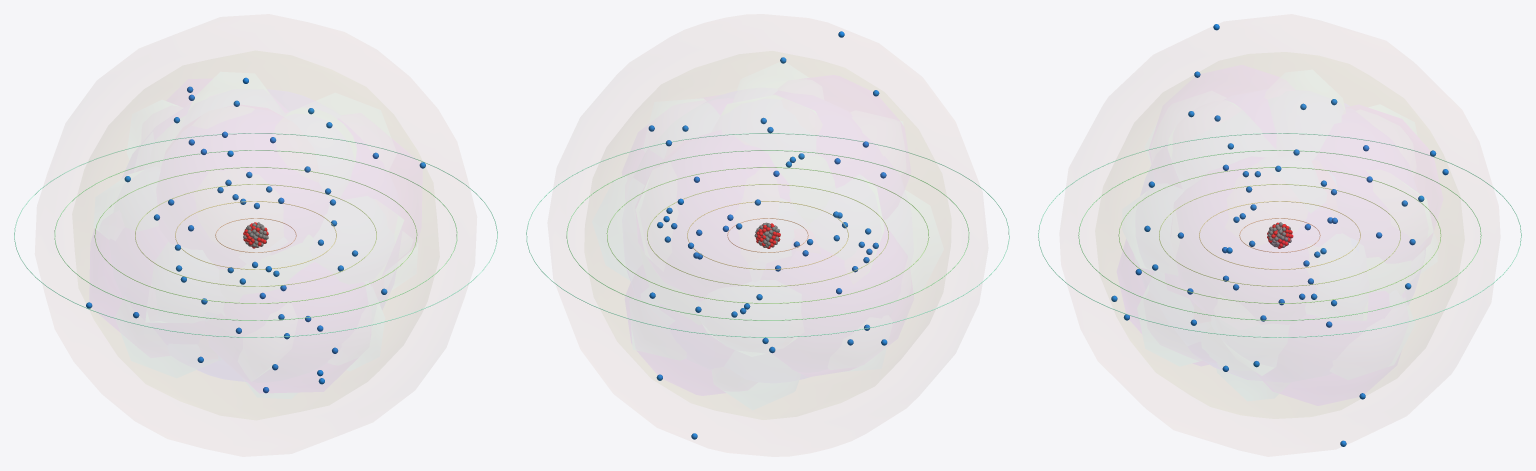
3 renders of one model, left to right at view 1: azimuth 30°, elevation 25°; view 2: azimuth 150°, elevation 25°; view 3: azimuth 270°, elevation 25°, orthographic.
Visible parts, largest first — view 1: Nivel_n6, Nivel_n5, Nivel_n4, Nivel_n3; view 2: Nivel_n6, Nivel_n5, Nivel_n4, Nivel_n3; view 3: Nivel_n6, Nivel_n5, Nivel_n4, Nivel_n3.
Boxes of the visible parts, x1,y1,x2,y2 form: Nivel_n6: (14, 133, 497, 337); Nivel_n5: (54, 150, 457, 320); Nivel_n4: (94, 167, 417, 303); Nivel_n3: (135, 184, 376, 286); Nivel_n6: (526, 133, 1009, 337); Nivel_n5: (566, 150, 969, 320); Nivel_n4: (606, 167, 929, 303); Nivel_n3: (647, 184, 888, 286); Nivel_n6: (1038, 133, 1521, 337); Nivel_n5: (1078, 150, 1481, 320); Nivel_n4: (1118, 167, 1441, 303); Nivel_n3: (1159, 184, 1400, 286).
Size of the model in its own units: 1.8 by 1.64 by 1.8.
